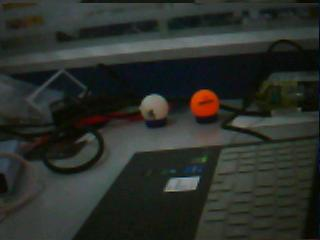oball: (190, 90, 218, 115)
